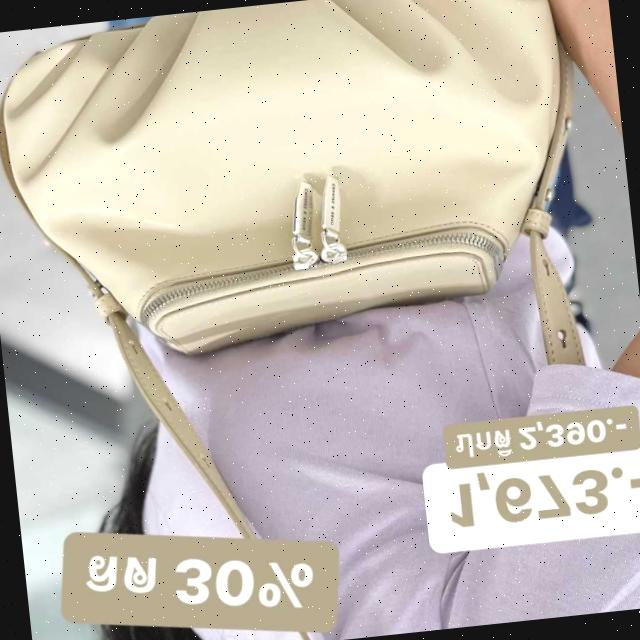Handbag: (0, 0, 589, 380)
